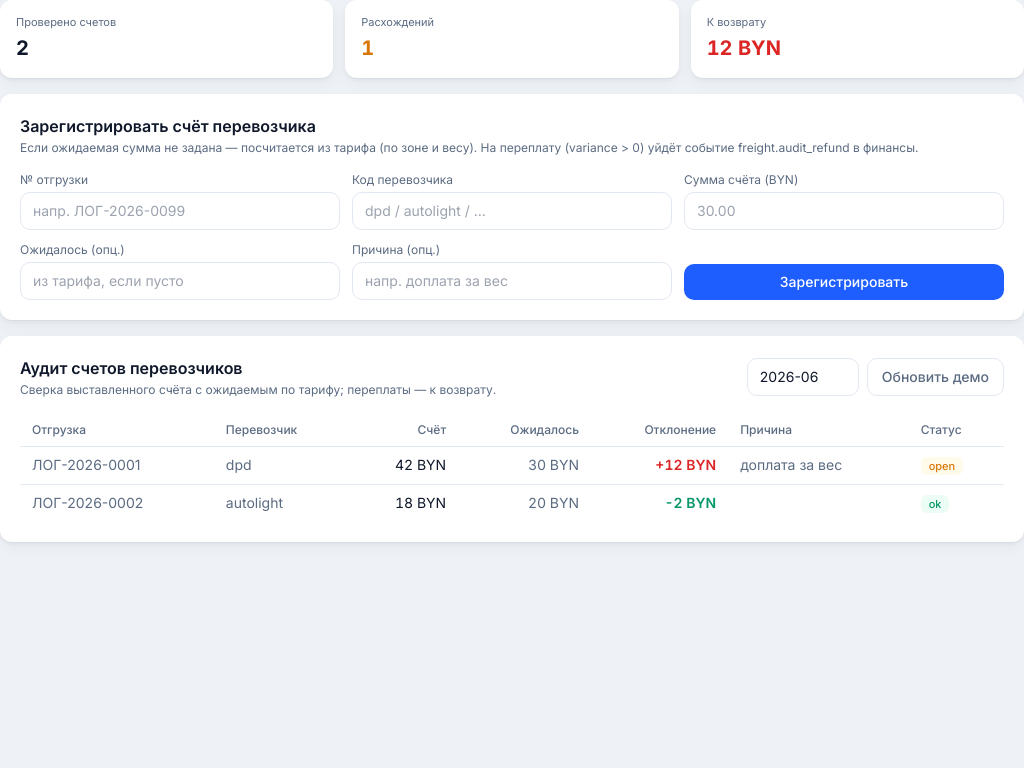
Test: LogisticsAudit › валидация: неположительная сумма счёта — ошибка, счёт не уходит
Check: the text "Проверено счетов" is shown, box x1=16 y1=15 x2=116 y2=29
Type "ЛОГ-9" into the field with placeholder "напр. ЛОГ-2026-0099".
click(180, 211); type("ЛОГ-9")  # box x1=20 y1=192 x2=340 y2=230
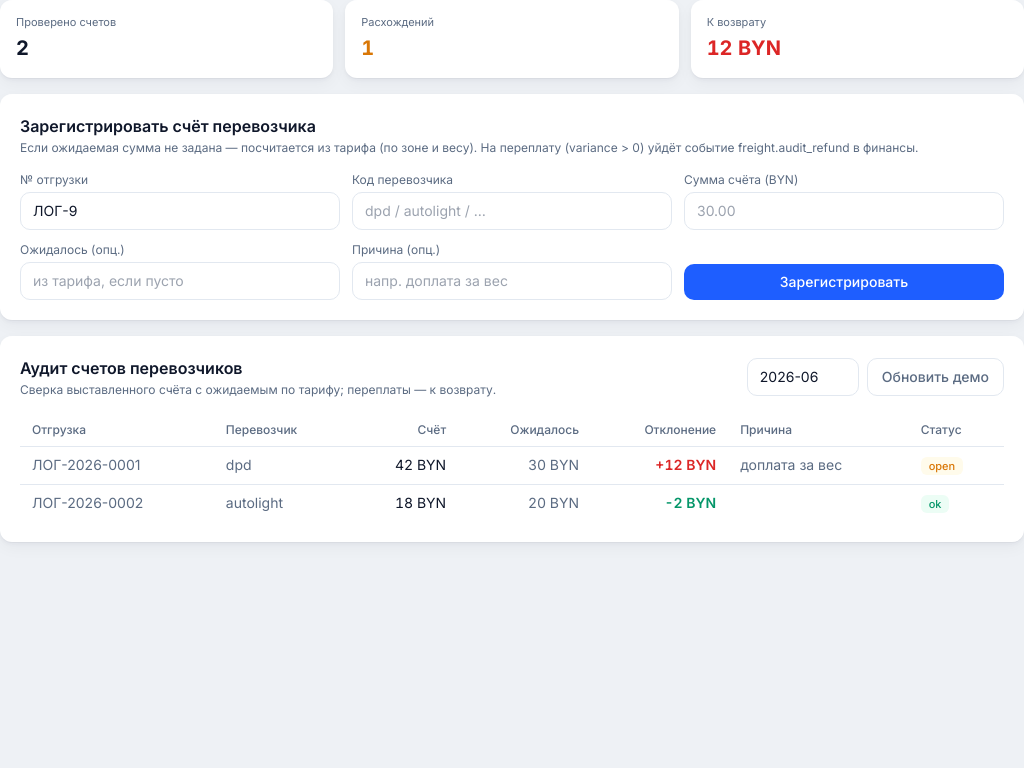
Type "dpd" into the field with placeholder "dpd / autolight / …".
click(512, 211); type("dpd")  # box x1=352 y1=192 x2=672 y2=230
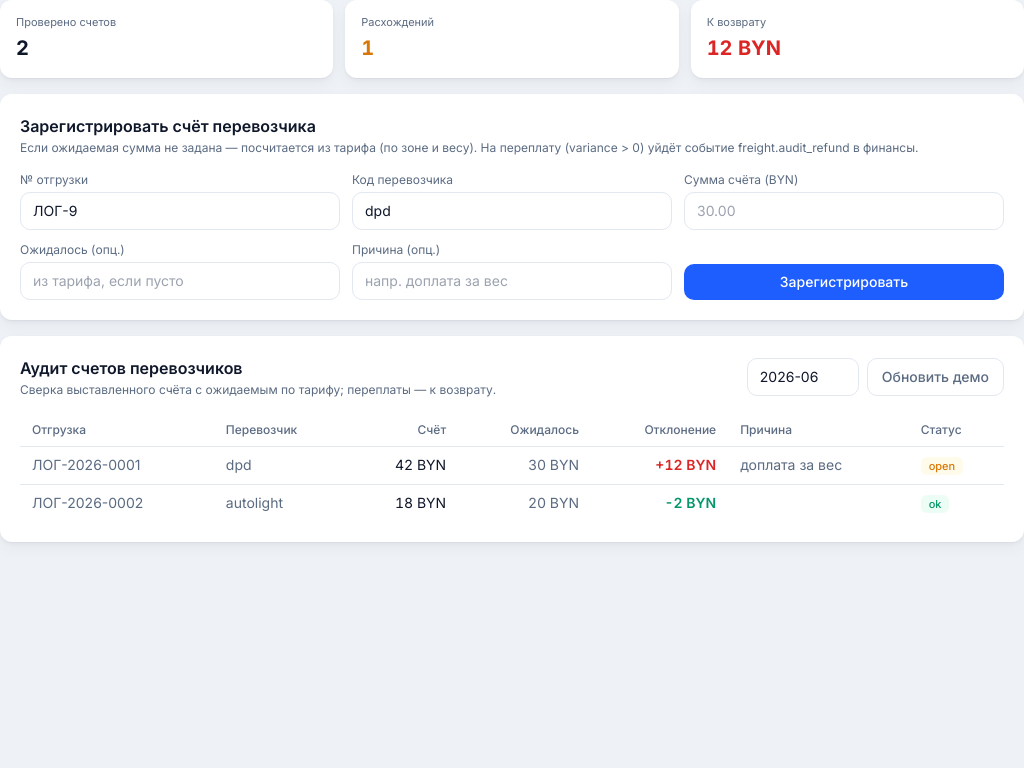
Type "-5" into the number field with placeholder "30.00".
click(844, 211); type("-5")  # box x1=684 y1=192 x2=1004 y2=230
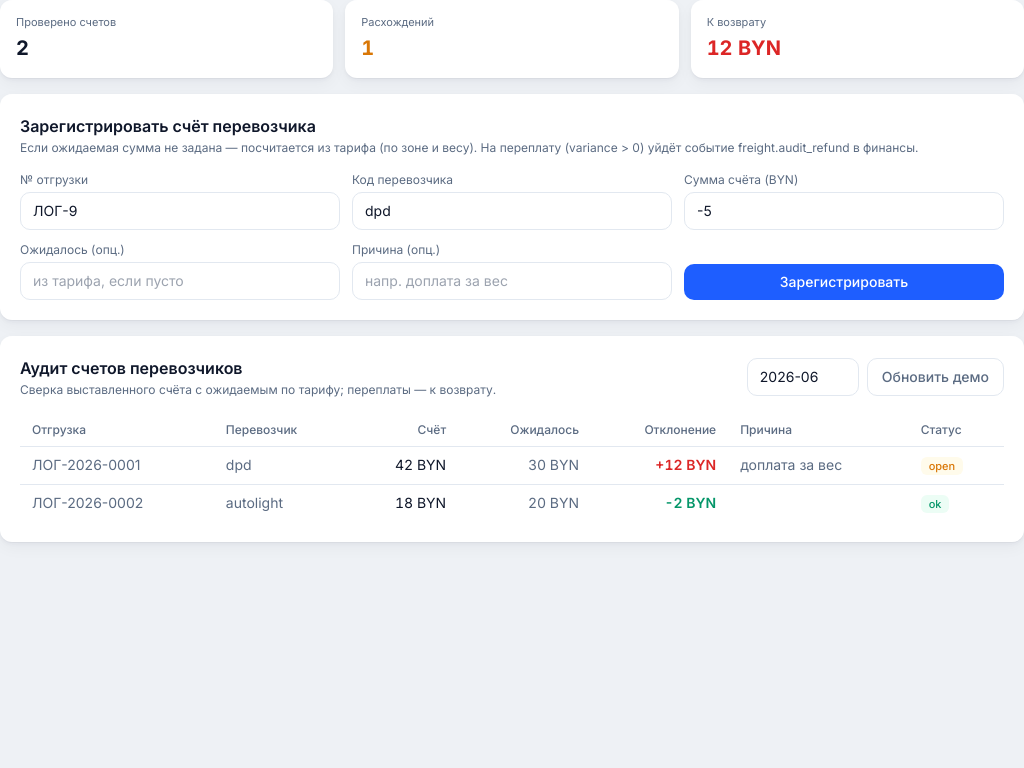
Click the button "Зарегистрировать".
click(844, 282)  # box x1=684 y1=264 x2=1004 y2=300
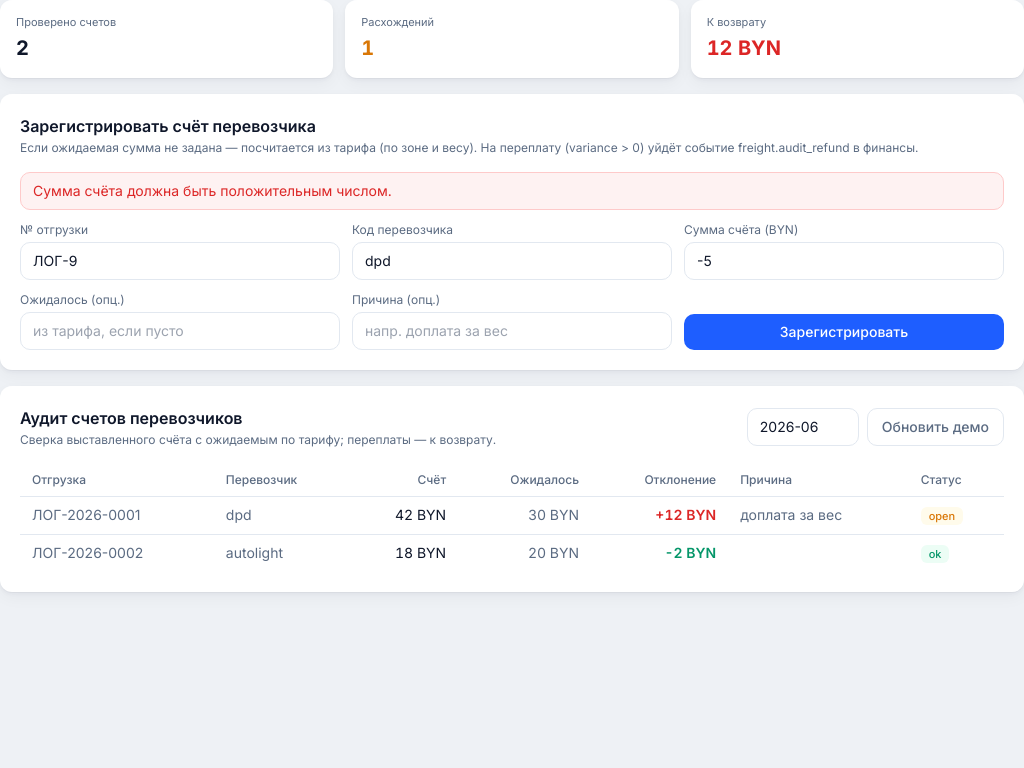
Check: the text "Сумма счёта должна быть положительным числом." is shown, box x1=20 y1=172 x2=1004 y2=210
